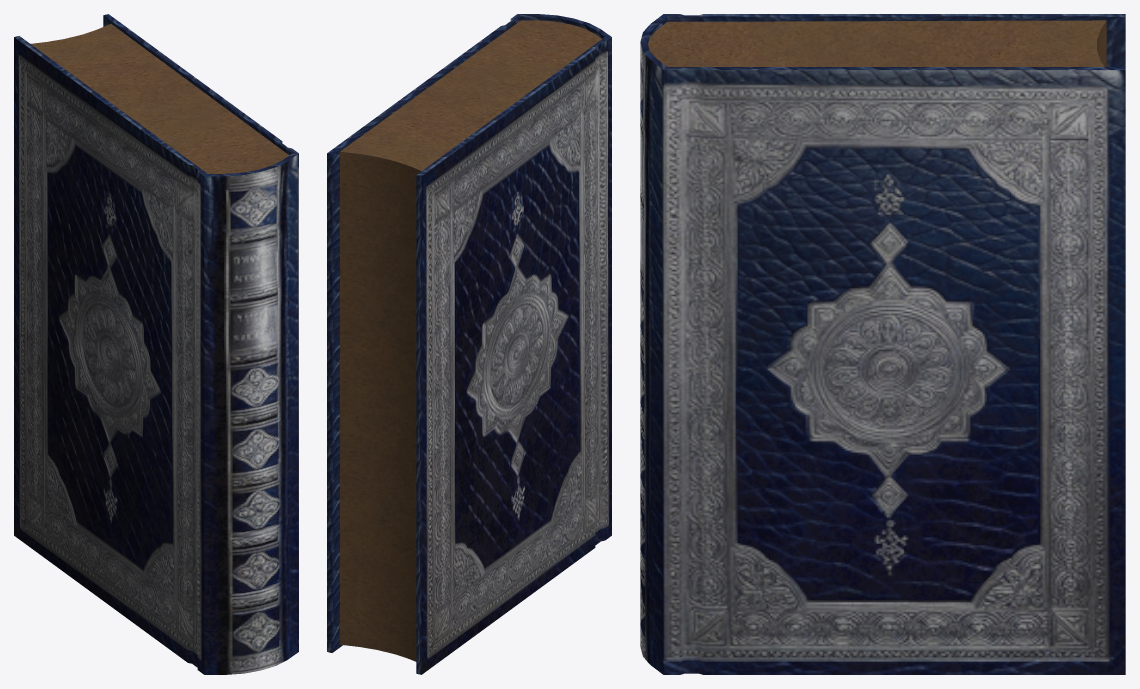
Rendered from Book LOD0.fbx.
3 renders of one model, left to right at view 1: azimuth 30°, elevation 25°; view 2: azimuth 150°, elevation 25°; view 3: azimuth 270°, elevation 25°, orthographic. The views are drawn at different scales.
Parts seen in each view (by area): view 1: Book LOD0; view 2: Book LOD0; view 3: Book LOD0.
Boxes of the visible parts, x1=… form: Book LOD0: x1=14, y1=14, x2=298, y2=674; Book LOD0: x1=327, y1=14, x2=611, y2=674; Book LOD0: x1=640, y1=14, x2=1125, y2=674.
Size of the model in its own units: 6.82 by 34.35 by 24.97.
1 material, 1 textured.
